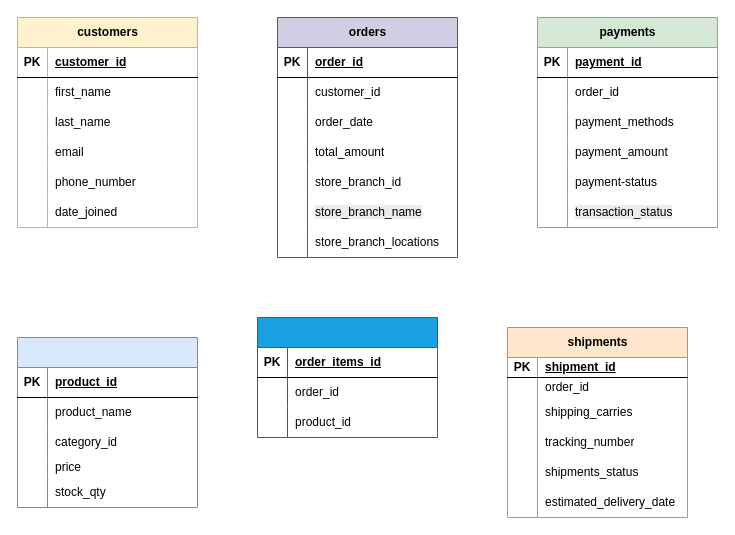
Image size: 735x535. Some labels were removed from this diagram. Each missing label, with the box of its shape:
orders_items: (256, 316, 438, 438)
products: (16, 336, 198, 508)
